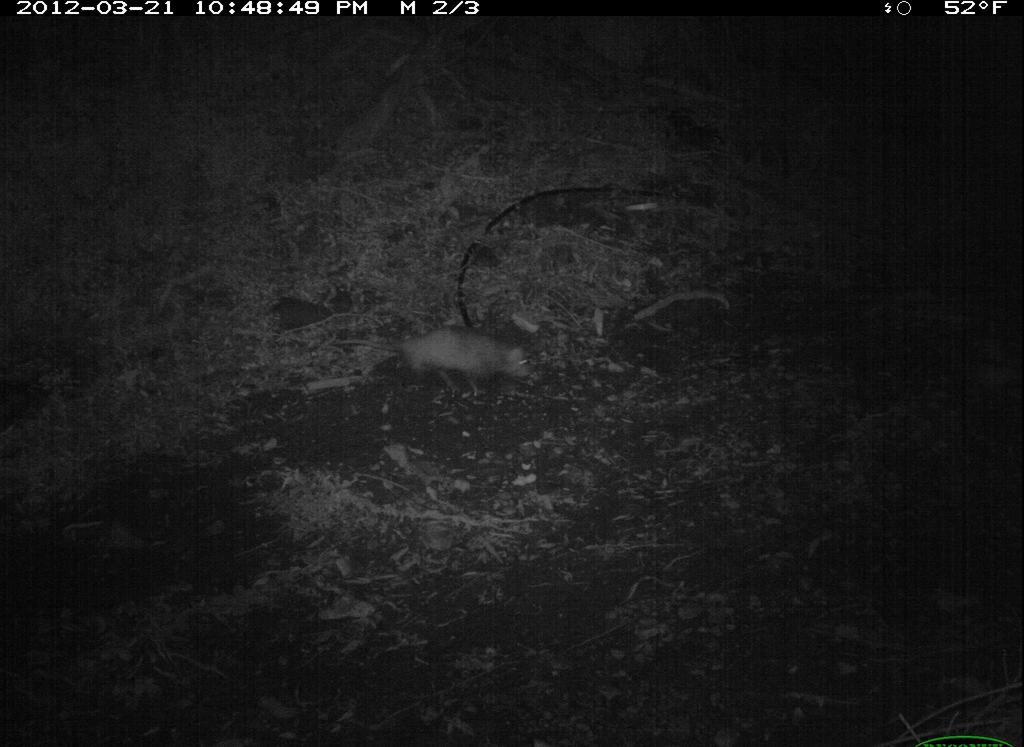opossum: (332, 319, 538, 402)
